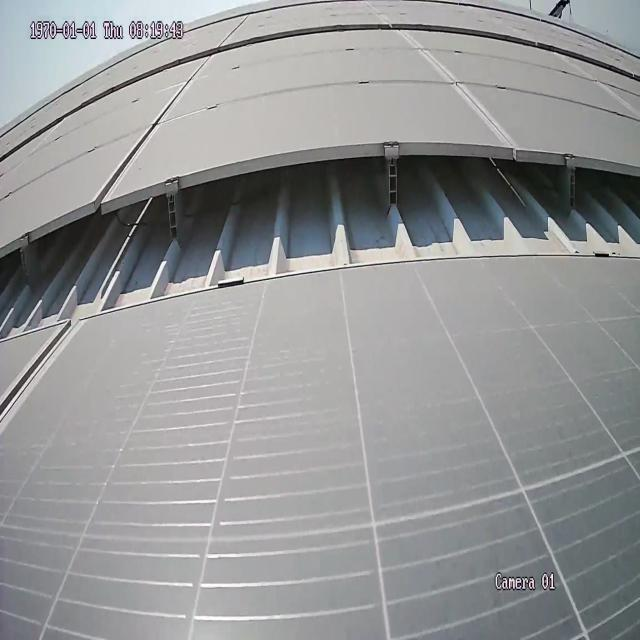interior panel: (99, 67, 203, 194), (407, 38, 509, 136), (4, 334, 80, 427)
outher panel: (1, 152, 638, 340)
